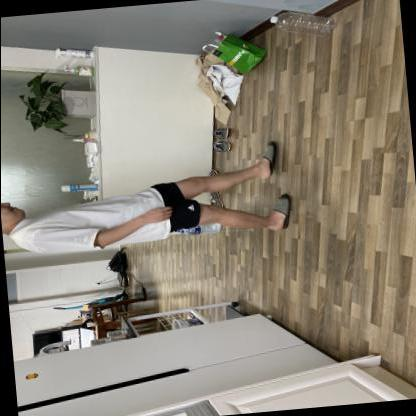no_safety-shoe: (245, 133, 290, 183), (263, 190, 301, 232)
